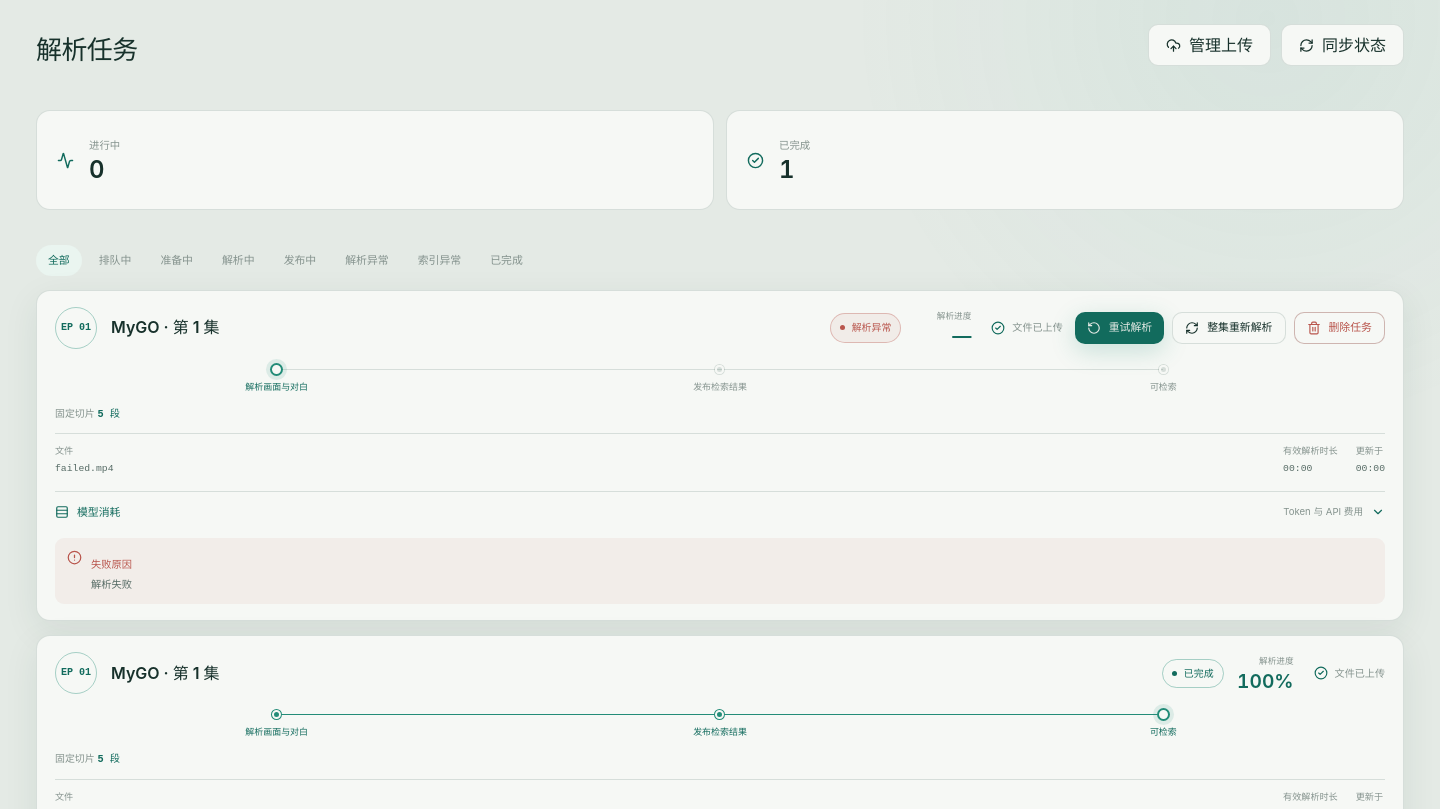
V2 task actions › deletes the owning upload aggregate and removes every card for that session
Step 1. Click the button "删除任务" → (1339, 328), box [1294, 312, 1385, 344]
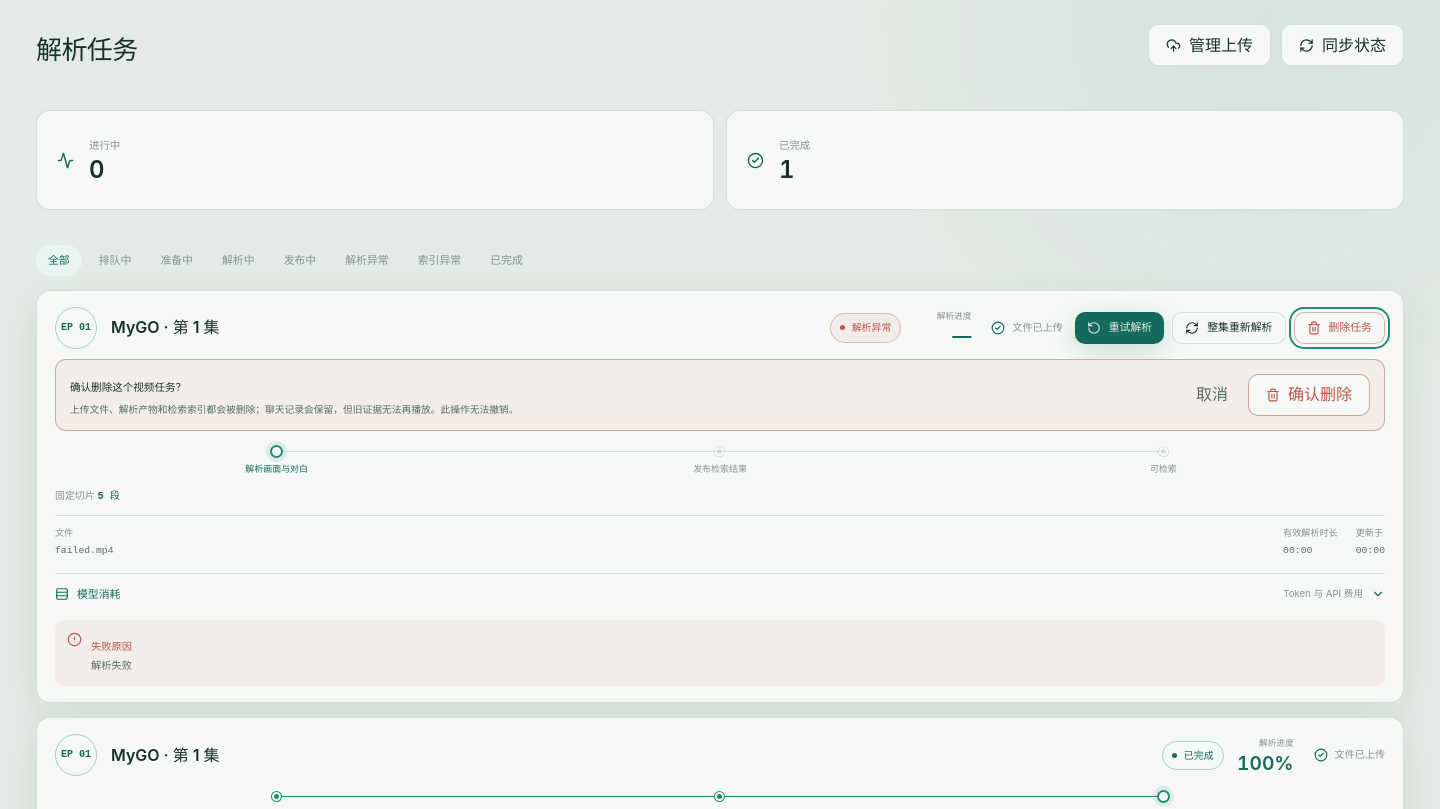
Step 2. Click the button "确认删除" → (1309, 395), box [1248, 374, 1370, 416]
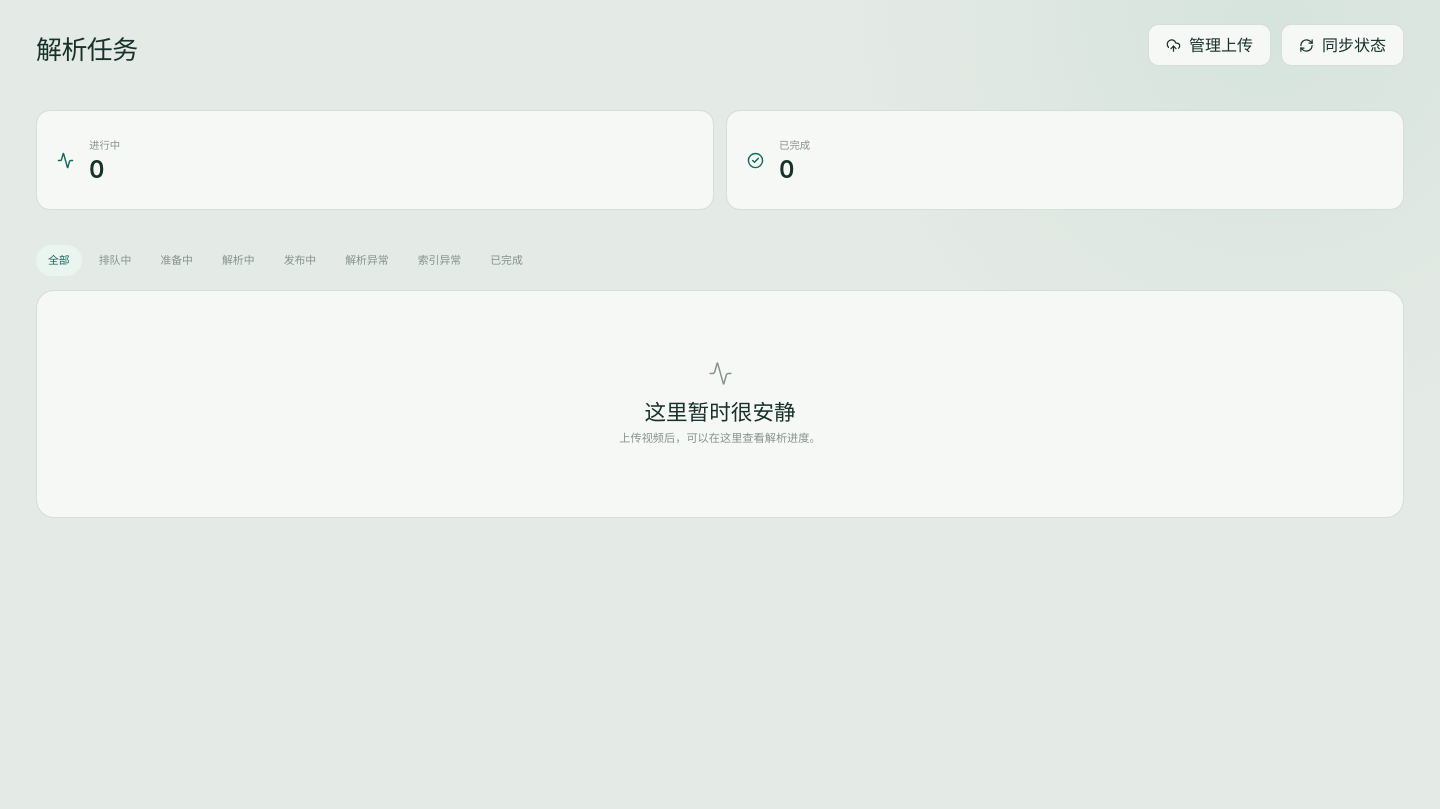
Now the text "failed.mp4" is gone
